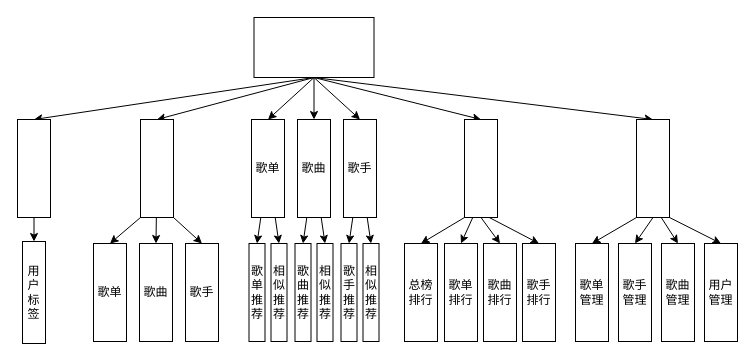
Some shapes in this 755 by 361 pixel diagram are drawn without their labels. Here are the shapes that lost their labels. From the top down, the box of each, then its label:
(253, 16, 374, 78): 音乐推荐系统
(16, 118, 50, 218): 登陆注册
(140, 118, 174, 218): 为你推荐
(464, 118, 498, 218): 排行榜
(636, 118, 670, 218): 后台管理
